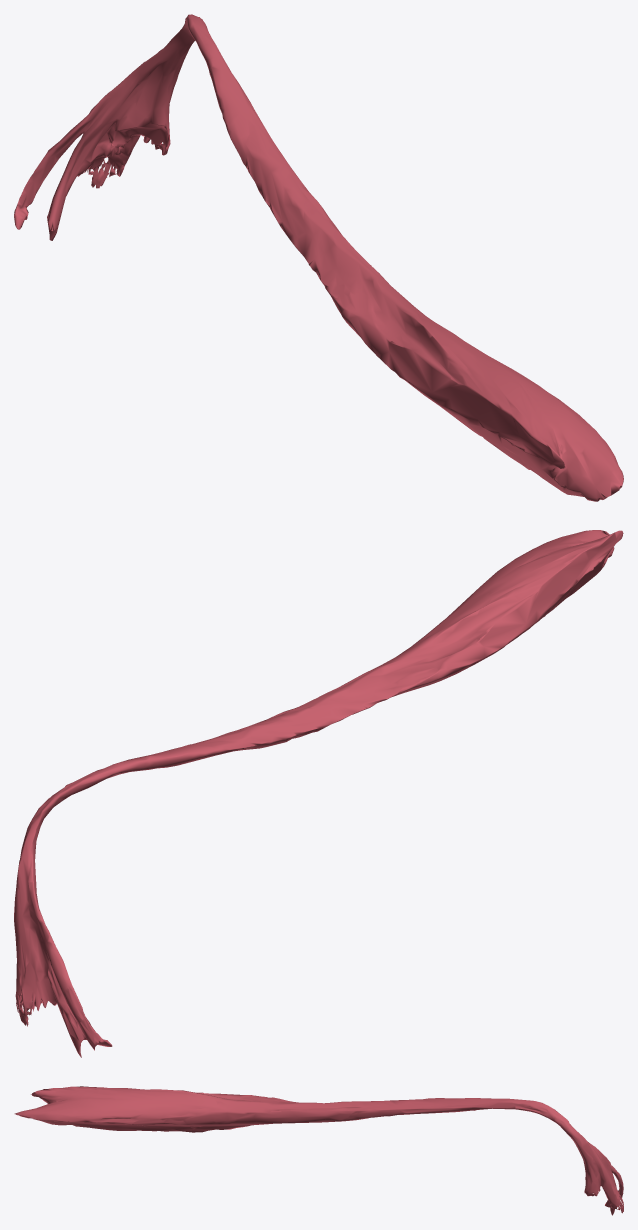
The picture shows the model from 3 angles, top to bottom: view 1: azimuth 30°, elevation 25°; view 2: azimuth 150°, elevation 25°; view 3: azimuth 270°, elevation 25°; orthographic projection. The views are drawn at different scales.
Visible parts, largest first — view 1: 右侧胫骨后肌; view 2: 右侧胫骨后肌; view 3: 右侧胫骨后肌.
Part boxes in pixels (<box>): 右侧胫骨后肌: <box>14,14,623,501</box>; 右侧胫骨后肌: <box>14,530,623,1057</box>; 右侧胫骨后肌: <box>14,1086,623,1215</box>.
Bounding box in the file's own units: 0.0868 × 0.1196 × 0.5065.
